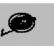correct: (8, 12, 36, 33)
